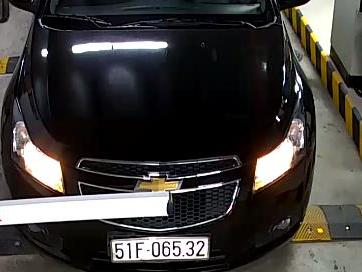number: (111, 235, 209, 262)
